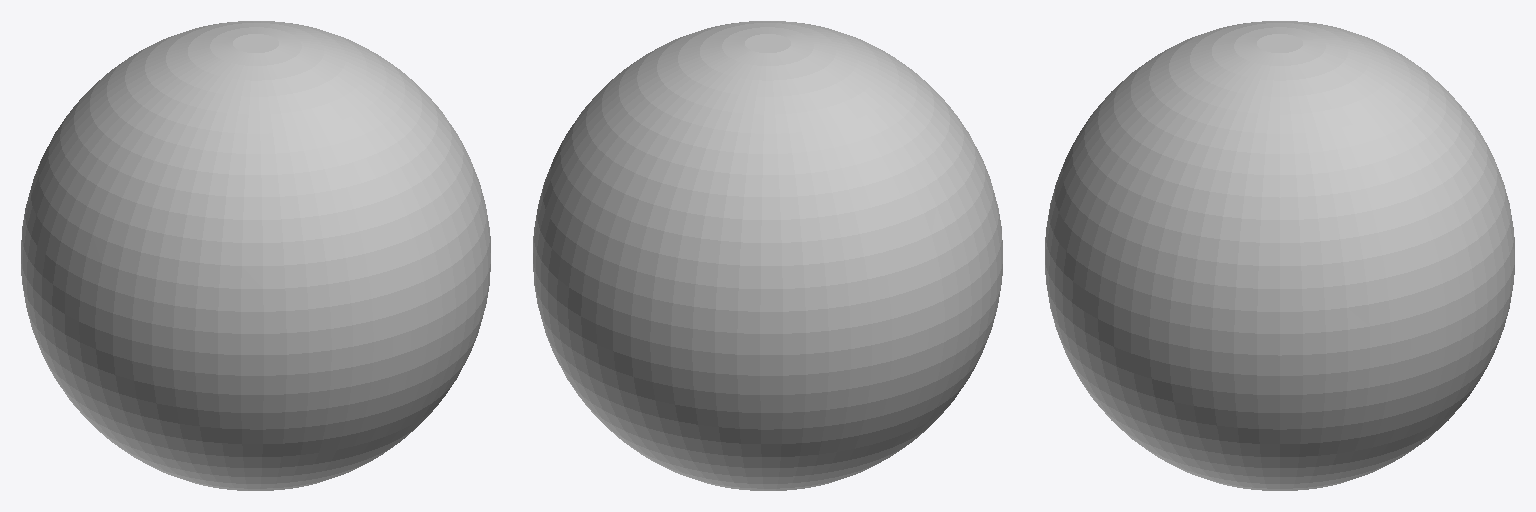
Rendered from ball15.obj.
3 renders of one model, left to right at view 1: azimuth 30°, elevation 25°; view 2: azimuth 150°, elevation 25°; view 3: azimuth 270°, elevation 25°, orthographic.
Visible parts, largest first — view 1: planet_Sphere.008; view 2: planet_Sphere.008; view 3: planet_Sphere.008.
Boxes of the visible parts, <box> form: planet_Sphere.008: <box>21,21,490,490</box>; planet_Sphere.008: <box>533,21,1002,490</box>; planet_Sphere.008: <box>1045,21,1514,490</box>.
Bounding box in the file's own units: 0.2214 × 0.2204 × 0.2214.